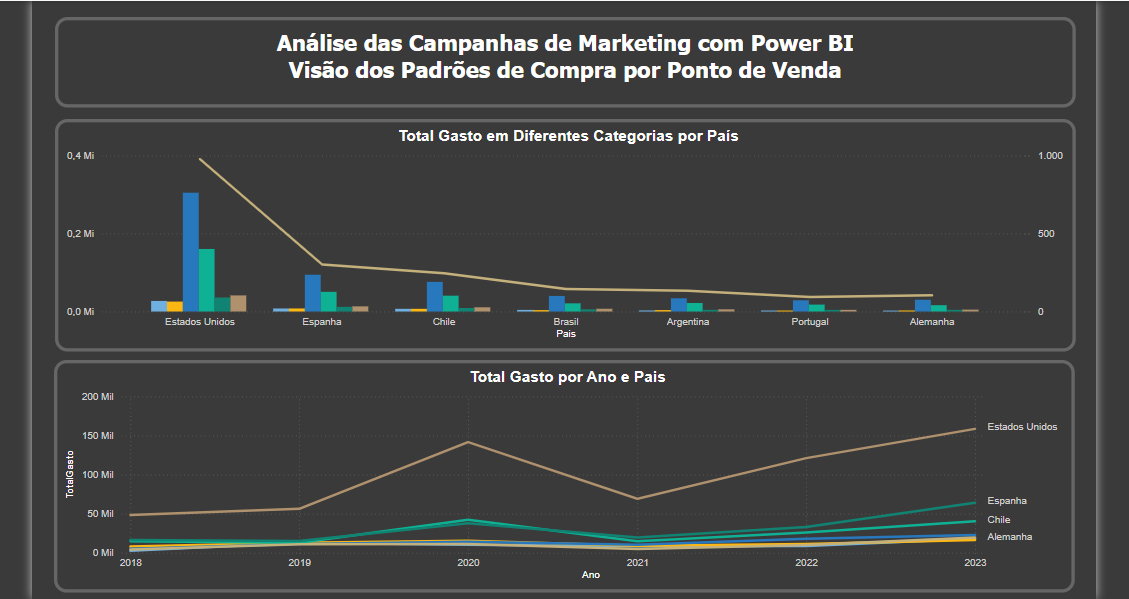

Layout of this report page (visuals, bound fields, positions):
{"tool":"powerbi","page":{"name":"Visão Pontos de Venda","canvas":[1280,720],"ordinal":3},"visuals":[{"type":"lineClusteredColumnComboChart","title":"Total Gasto em Diferentes Categorias por País","fields":{"Category":["DadosMarketing.Pais"],"Y":["Sum(DadosMarketing.Gasto com Alimentos)","Sum(DadosMarketing.Gasto com Brinquedos)","Sum(DadosMarketing.Gasto com Eletronicos)","Sum(DadosMarketing.Gasto com Moveis)","Sum(DadosMarketing.Gasto com Utilidades)","Sum(DadosMarketing.Gasto com Vestuario)"],"Y2":["CountNonNull(DadosMarketing.ID)"]},"box":[27.3,141.5,1228.5,279.8],"z":0},{"type":"lineChart","title":"Total Gasto por Ano e Pais","fields":{"Series":["DadosMarketing.Pais"],"Y":["DadosMarketing.TotalGasto"],"Category":["DadosMarketing.Data Cadastro.Variation.Hierarquia de datas.Ano"]},"box":[27,432,1229,280],"z":1},{"type":"actionButton","box":[0,0,100,40],"z":2},{"type":"textbox","box":[27.3,19.3,1228.5,109.3],"z":3}]}

Visuals, with their boxes on the page's 1280x720 design canvas (x1, y1, x2, y2). These are canvas units, not pixel positions in the 1129x599 screenshot, which may show the page scaled, cropped or inside an application window:
"Total Gasto em Diferentes Categorias por País" lineClusteredColumnComboChart: 27, 142, 1256, 421
"Total Gasto por Ano e Pais" lineChart: 27, 432, 1256, 712
actionButton: 0, 0, 100, 40
textbox: 27, 19, 1256, 129
